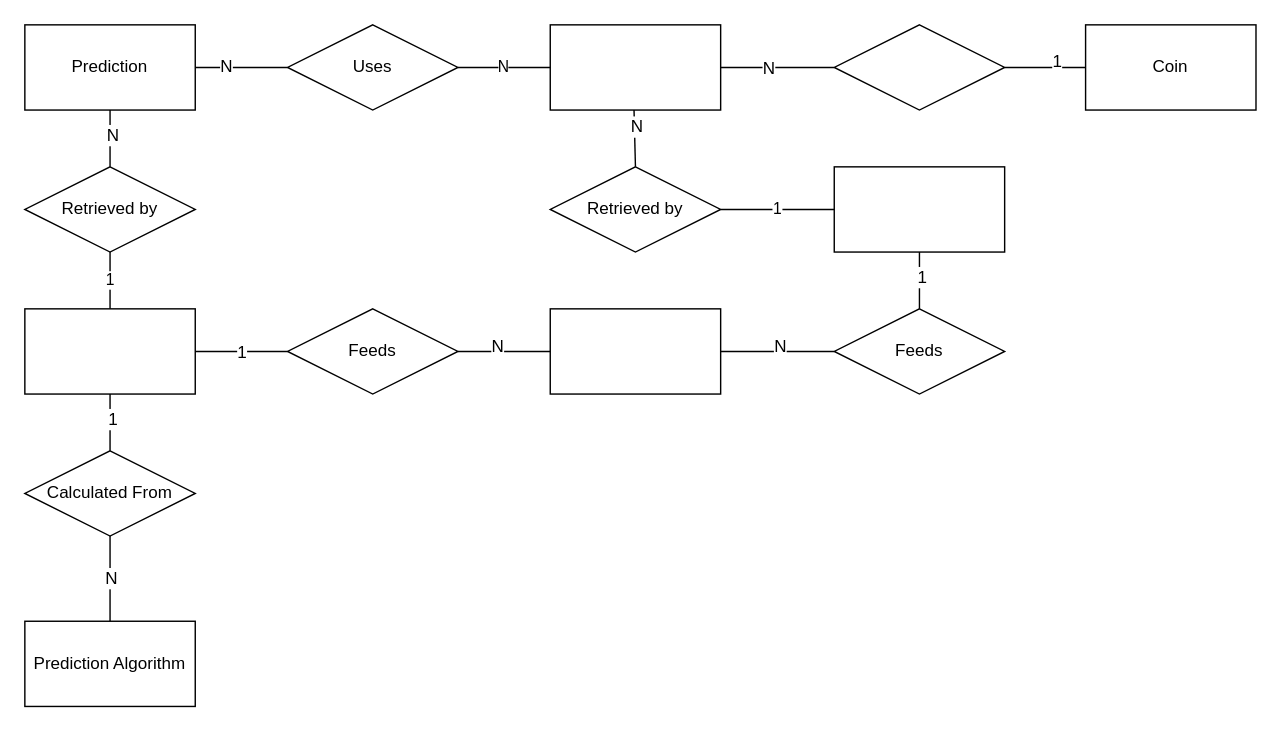
The diagram is 1281 pixels wide and 731 high, and some of its shapes have lost their labels. Here are the shapes that lost their labels. From the top down, the centre of each, then its label:
At pixel 635 66: "Evaluation".
At pixel 919 66: "Belongs to".
At pixel 919 208: "Evaluation DAO".
At pixel 109 350: "Prediction DAO".
At pixel 635 350: "Chart".
